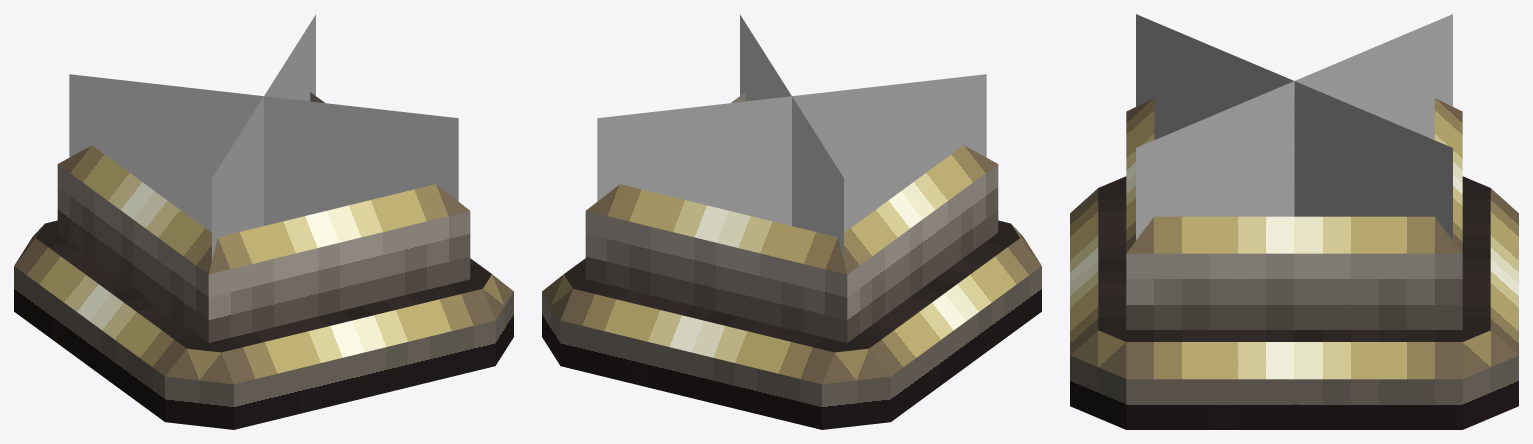
File: disintegration_pyre_inventory.obj
The picture shows the model from 3 angles, left to right: view 1: azimuth 30°, elevation 25°; view 2: azimuth 150°, elevation 25°; view 3: azimuth 270°, elevation 25°; orthographic projection. The views are drawn at different scales.
Parts seen in each view (by area): view 1: DISINTEGRATION_PYRE_BODY_Cube.185, DISINTEGRATION_PYRE_FLAME_SHORT_Plane.025; view 2: DISINTEGRATION_PYRE_BODY_Cube.185, DISINTEGRATION_PYRE_FLAME_SHORT_Plane.025; view 3: DISINTEGRATION_PYRE_BODY_Cube.185, DISINTEGRATION_PYRE_FLAME_SHORT_Plane.025.
Boxes of the visible parts, x1=… form: DISINTEGRATION_PYRE_BODY_Cube.185: x1=14, y1=92, x2=513, y2=429; DISINTEGRATION_PYRE_FLAME_SHORT_Plane.025: x1=69, y1=14, x2=458, y2=260; DISINTEGRATION_PYRE_BODY_Cube.185: x1=542, y1=92, x2=1041, y2=429; DISINTEGRATION_PYRE_FLAME_SHORT_Plane.025: x1=597, y1=14, x2=986, y2=260; DISINTEGRATION_PYRE_BODY_Cube.185: x1=1070, y1=98, x2=1518, y2=429; DISINTEGRATION_PYRE_FLAME_SHORT_Plane.025: x1=1136, y1=14, x2=1452, y2=240.
Bounding box in the file's own units: 1 × 0.625 × 1.
